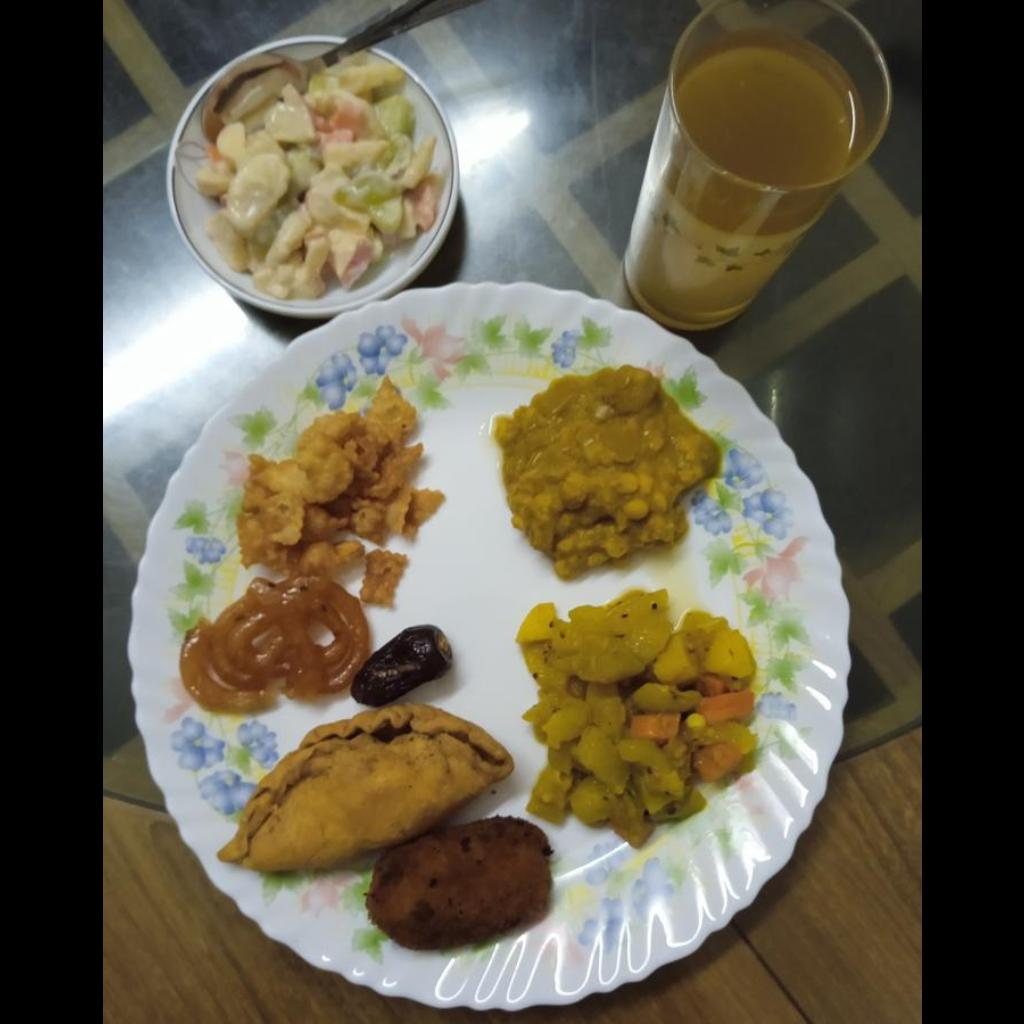chomchom: (218, 705, 512, 873), (236, 379, 442, 606)
daal: (495, 372, 717, 569)
dates: (350, 626, 449, 707)
jilapi: (181, 580, 368, 719)
juice: (675, 42, 850, 183)
kabab: (362, 812, 559, 950)
salad: (171, 48, 455, 311)
vegetable: (513, 592, 763, 845)
